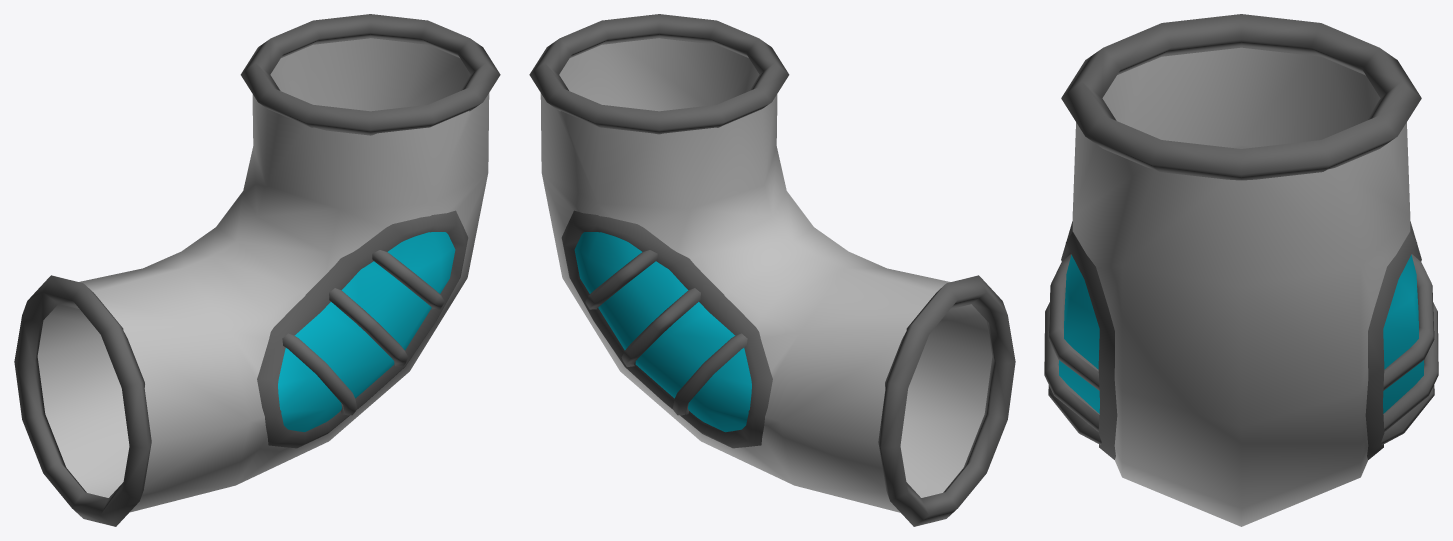
File: pipe_005.fbx
3 views of the same model, side by side, from view 1: azimuth 30°, elevation 25°; view 2: azimuth 150°, elevation 25°; view 3: azimuth 270°, elevation 25° (orthographic). The views are drawn at different scales.
Parts seen in each view (by area): view 1: pipe_005; view 2: pipe_005; view 3: pipe_005.
Boxes of the visible parts, left/top/right/bottom form: pipe_005: left=14, top=14, right=500, bottom=526; pipe_005: left=529, top=14, right=1015, bottom=526; pipe_005: left=1044, top=14, right=1438, bottom=526.
Bounding box in the file's own units: 390 × 233 × 350.
